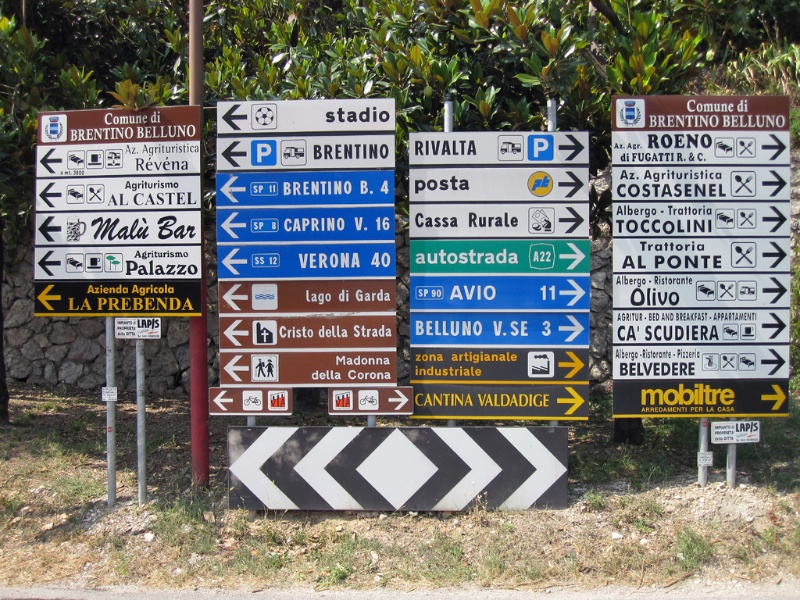left_direction: (217, 101, 250, 137), (217, 245, 251, 279), (217, 281, 252, 314), (217, 317, 253, 349), (217, 138, 250, 172), (216, 208, 249, 241), (31, 283, 66, 314), (34, 212, 67, 244), (219, 352, 253, 382), (34, 246, 65, 278), (217, 173, 250, 203), (36, 178, 66, 209), (36, 147, 66, 176), (208, 387, 237, 414)
parking: (249, 138, 281, 168), (526, 133, 555, 161)
right_direction: (758, 200, 795, 236), (556, 236, 591, 273), (555, 276, 590, 311), (554, 129, 589, 163), (554, 165, 589, 199), (760, 129, 791, 167), (758, 274, 792, 308), (555, 203, 589, 236), (758, 239, 792, 271), (760, 166, 792, 199), (553, 385, 587, 416), (759, 379, 789, 414), (556, 347, 591, 377), (554, 315, 590, 344), (759, 345, 791, 376), (762, 309, 791, 342), (525, 132, 556, 161), (384, 387, 412, 414)
